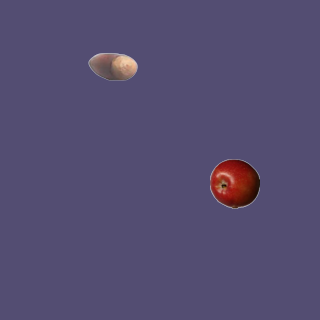Apple Braeburn: (209, 158, 259, 208)
Hazelnut: (87, 41, 137, 91)
